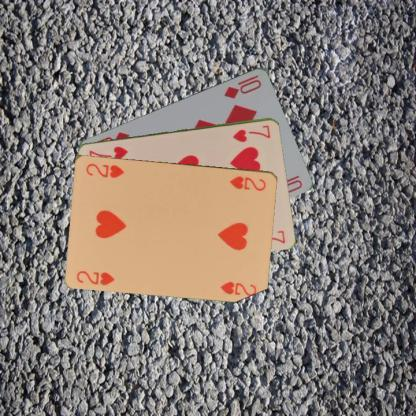10d: (221, 72, 263, 100)
2h: (74, 268, 116, 287), (227, 173, 268, 192)
7h: (231, 122, 272, 143)
